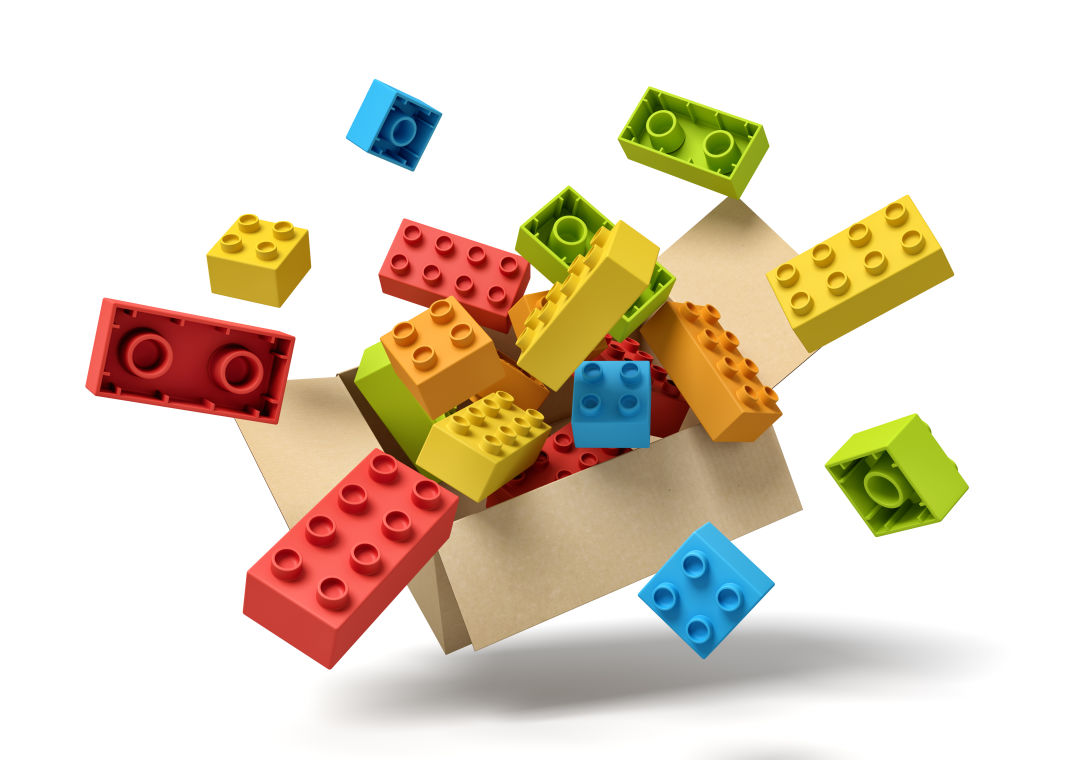toy: (194, 102, 845, 644)
